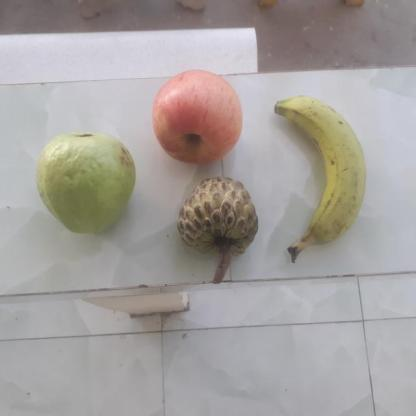annona: (173, 176, 257, 264)
apple: (148, 70, 243, 164)
banana: (274, 96, 364, 254)
guava: (34, 132, 132, 233)
